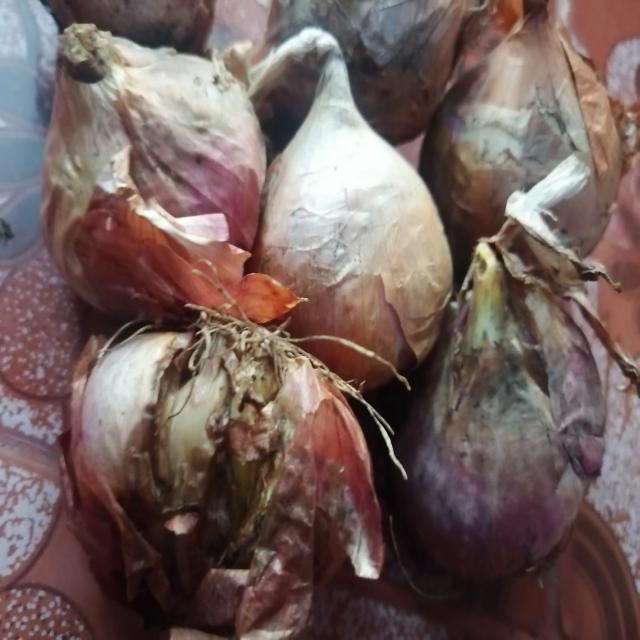rotten: (148, 354, 279, 532), (466, 260, 540, 404)
